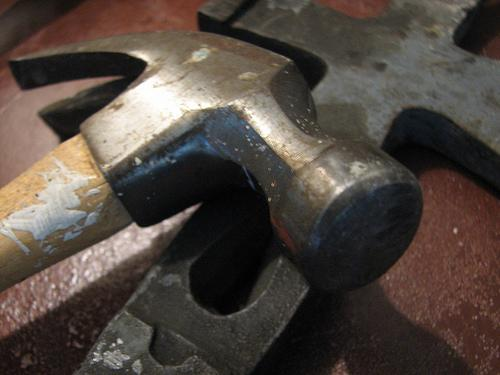hammer: (0, 26, 425, 294)
